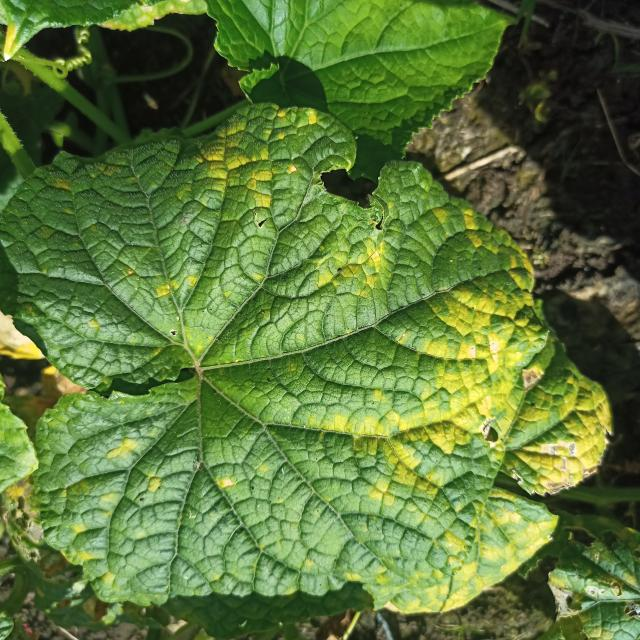disease_cucumber: (370, 200, 612, 599), (203, 114, 407, 303)
